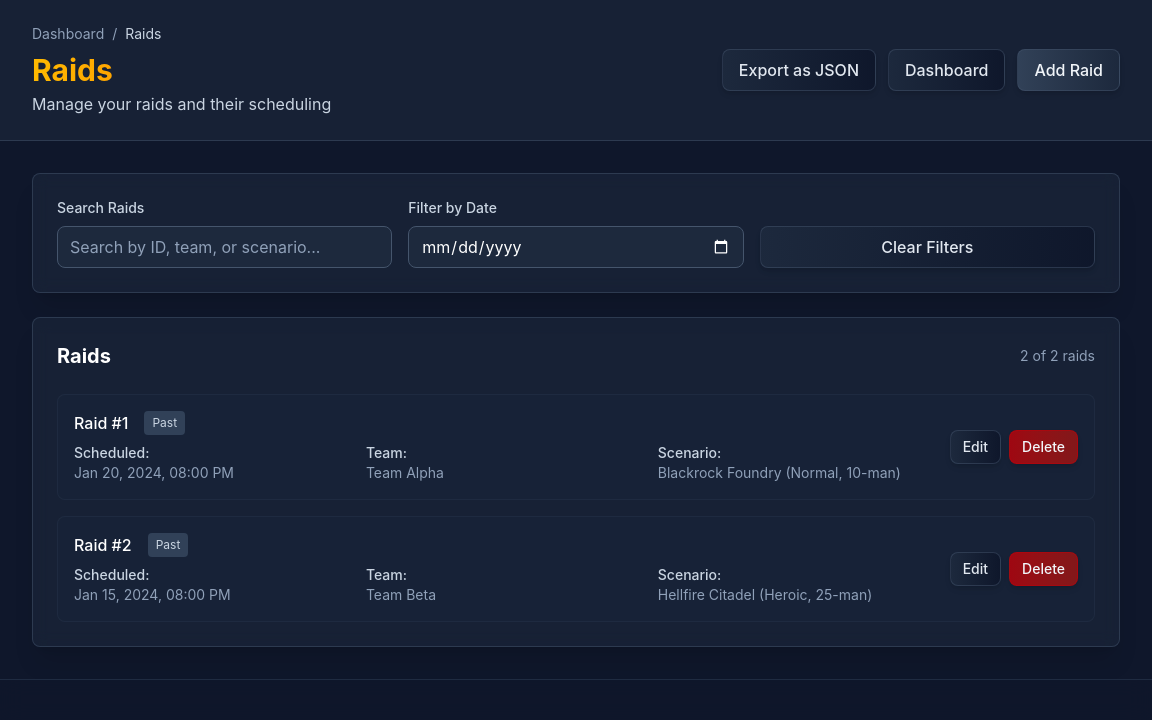
Test case: Raids › should show add raid form when add button is clicked
Click the button "Add Raid" at (1069,70), box [1017,49,1120,91]
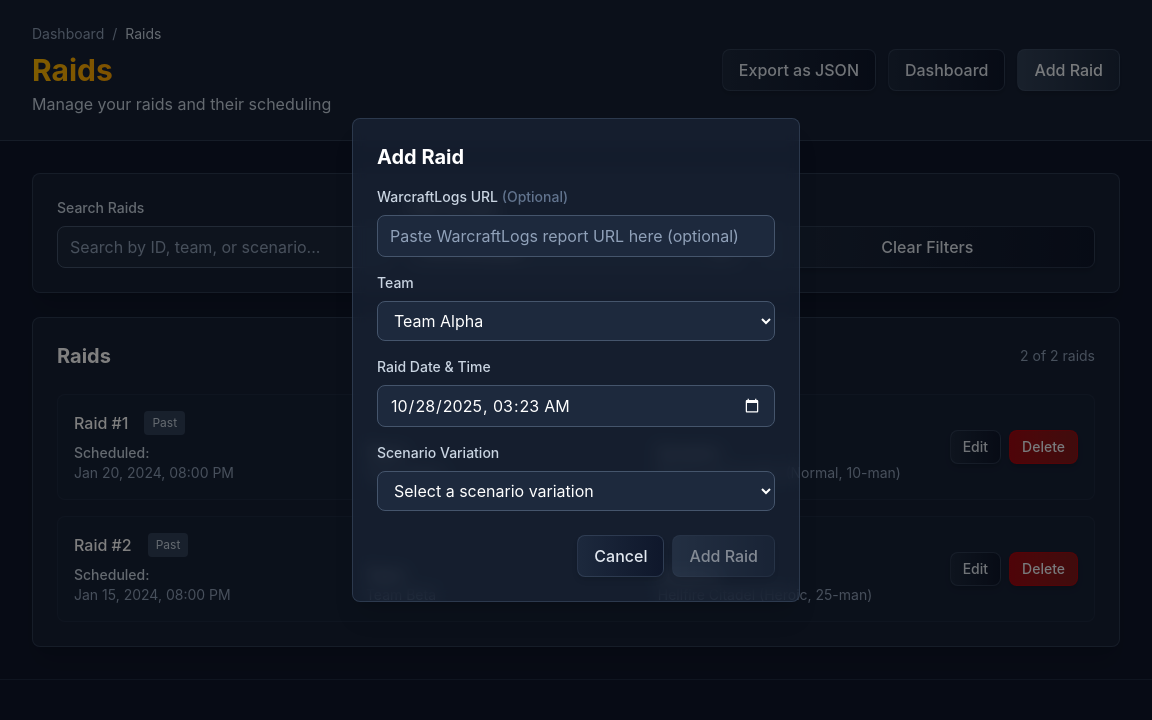
Expected: the heading "Add Raid" is shown, [377,145,464,169]
Expected: the dropdown labelled "Team" is shown, [377,301,775,341]
Expected: the dropdown labelled "Scenario Variation" is shown, [377,471,775,511]
